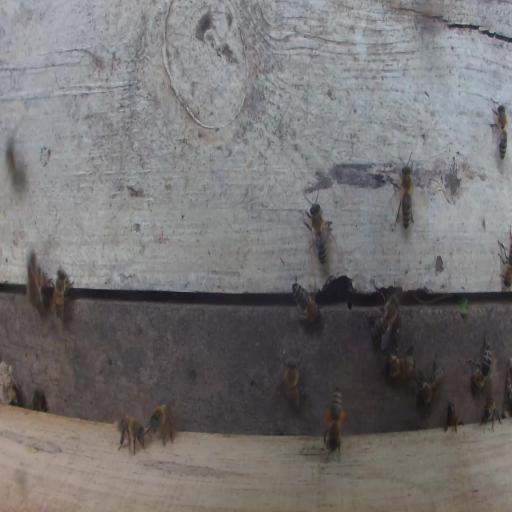nonpollenbee: (370, 291, 400, 349), (291, 279, 323, 330), (306, 198, 331, 263), (465, 333, 493, 391), (414, 358, 445, 410), (396, 160, 416, 233), (489, 99, 511, 162), (26, 247, 46, 316), (384, 338, 416, 381), (49, 262, 71, 324), (282, 355, 304, 415), (115, 414, 145, 457), (148, 402, 175, 449), (496, 224, 511, 289), (479, 394, 502, 434), (445, 401, 459, 434)
pollenbee: (323, 386, 347, 453)
